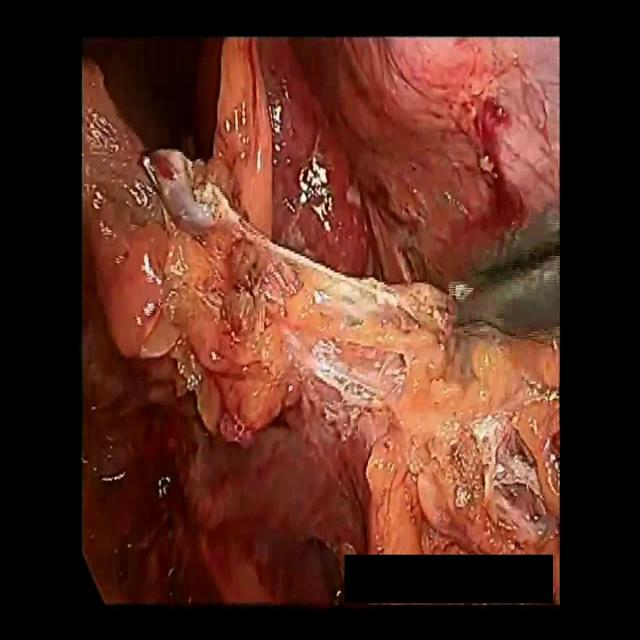surgical-area: (82, 36, 560, 606)
surgical-tool: (452, 201, 562, 327)
